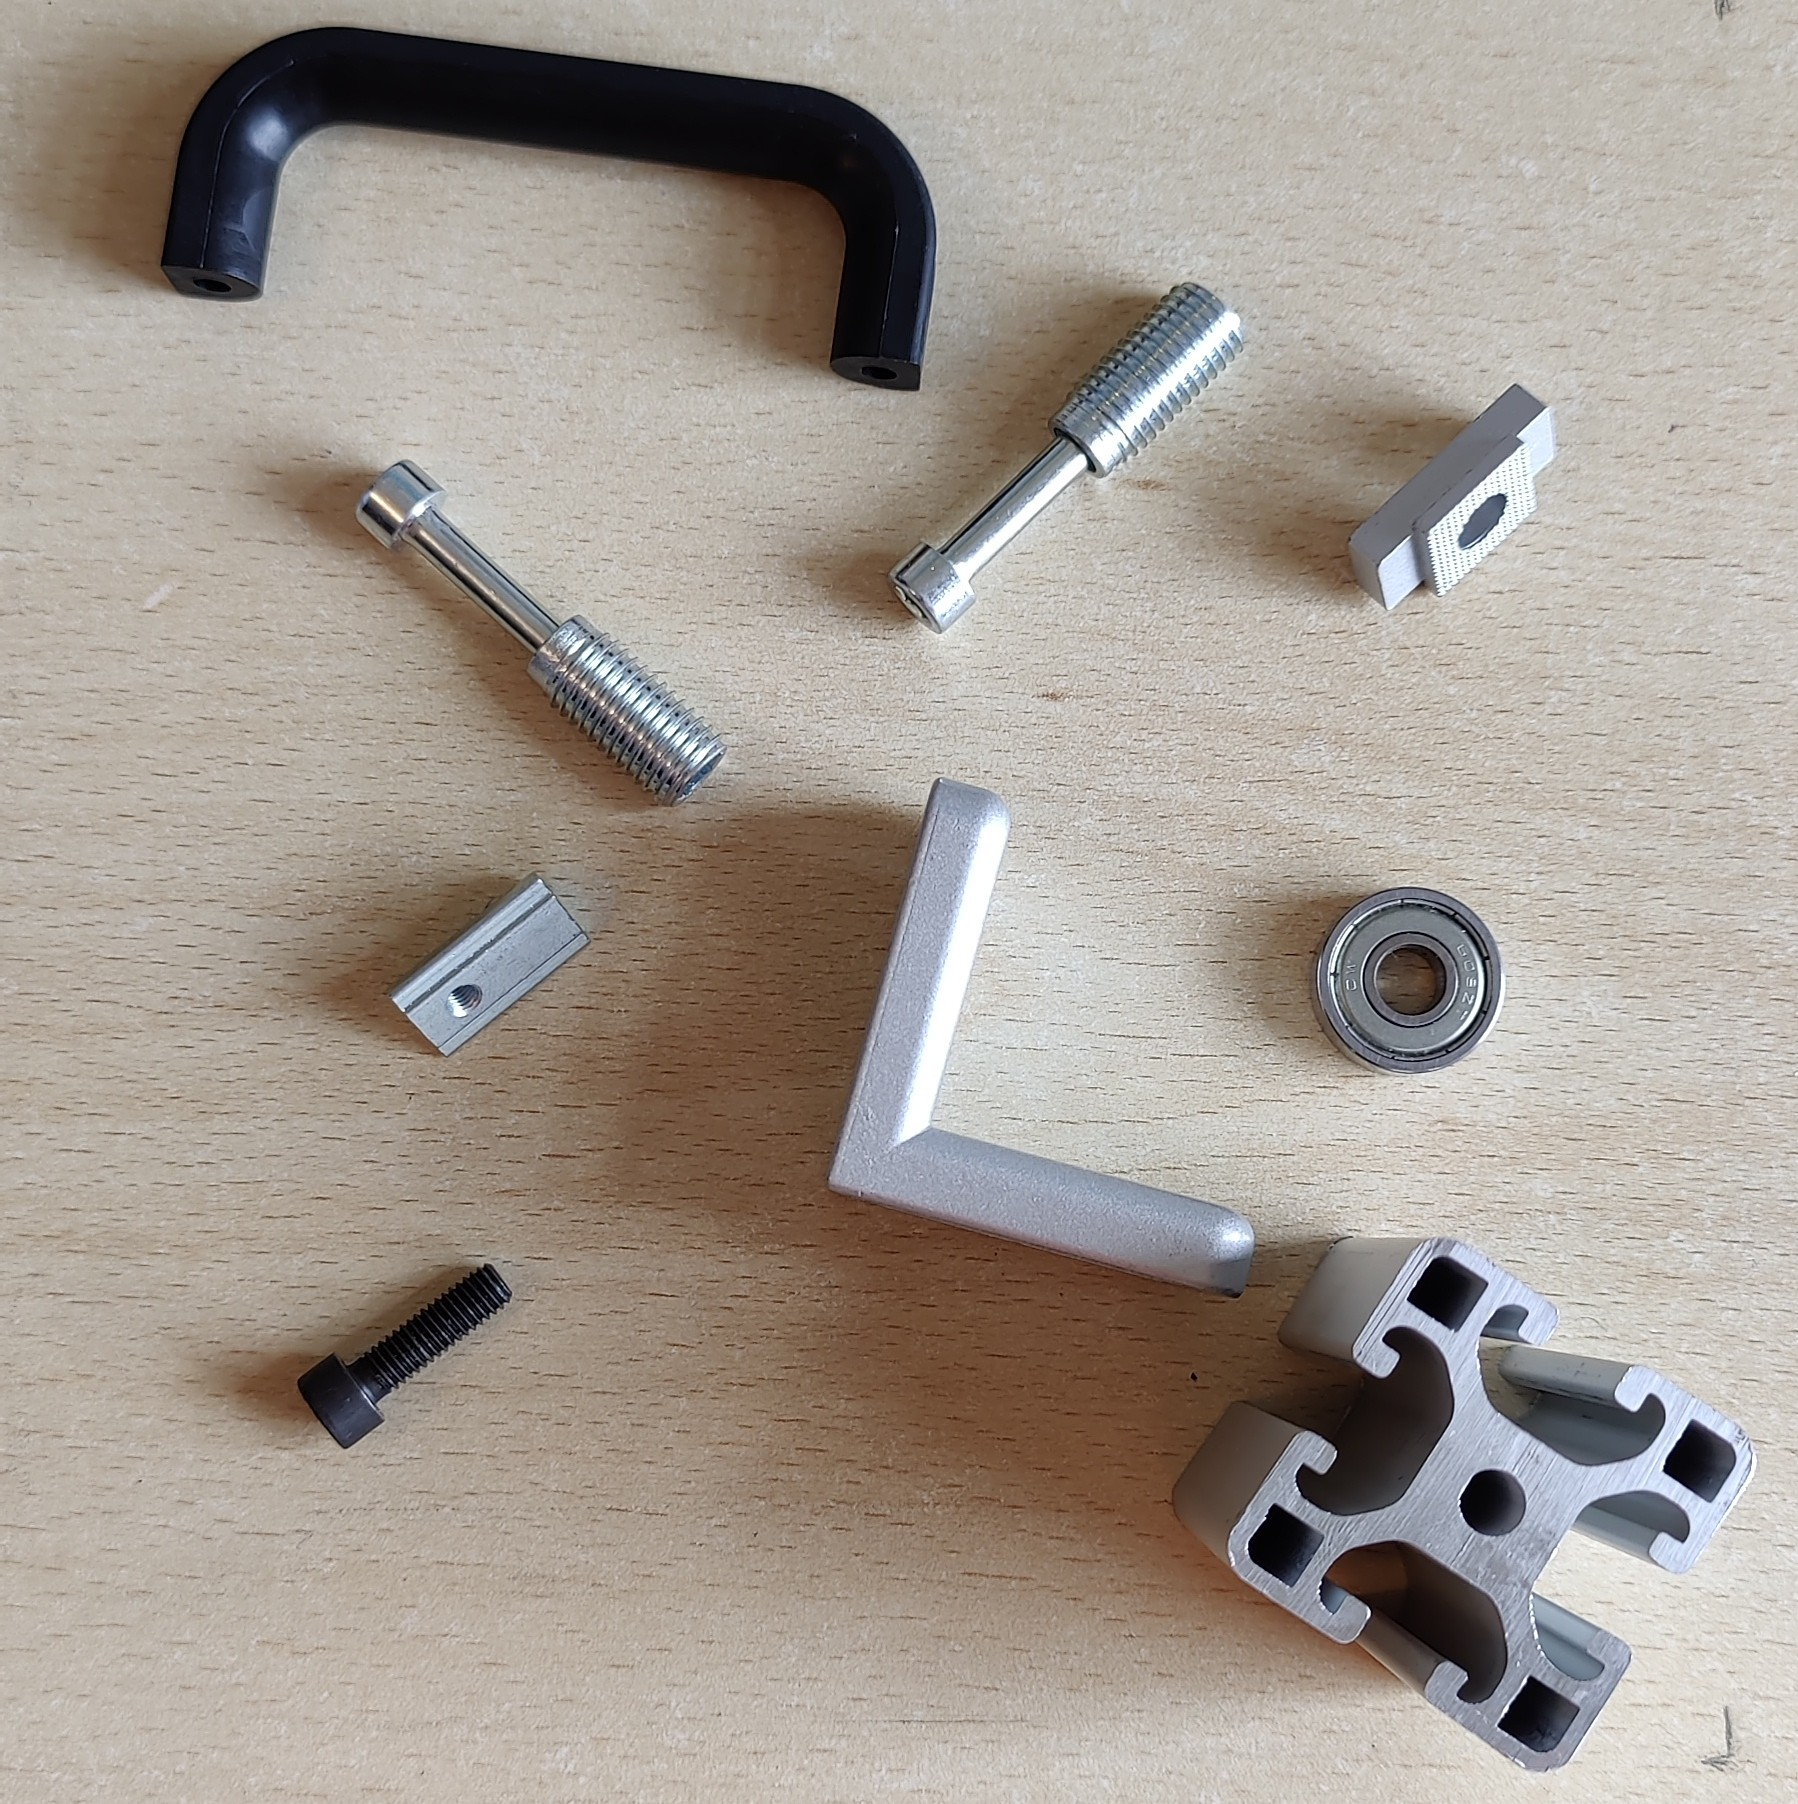Aluminium Extension: (1171, 1234, 1755, 1774)
Ball Bearing: (1307, 886, 1507, 1078)
Multiwinkel: (825, 777, 1258, 1300)
Pull Handle: (156, 21, 939, 393)
Shoulder Socket Head Cap Screw: (352, 454, 728, 808), (884, 277, 1246, 637)
Socket Head Cap Screw: (295, 1259, 517, 1452)
T Nut Square: (1345, 380, 1556, 614)
T Spring Nut: (389, 867, 593, 1058)
